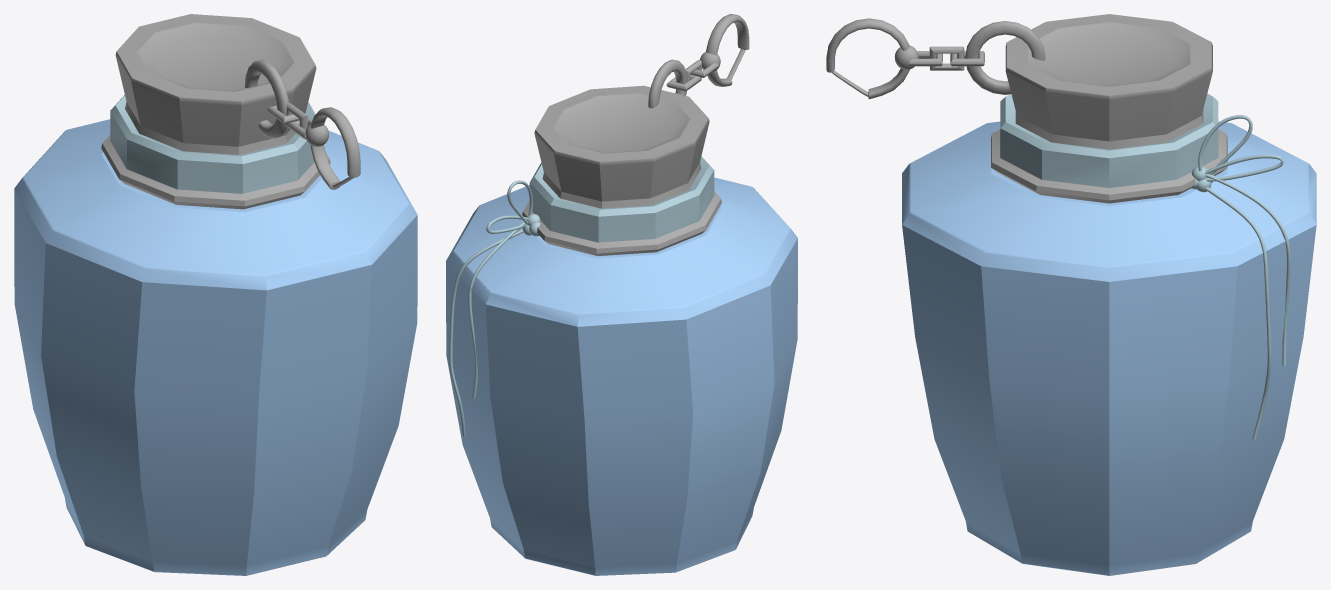
The model's file is faith.fbx.
3 views of the same model, side by side, from view 1: azimuth 30°, elevation 25°; view 2: azimuth 150°, elevation 25°; view 3: azimuth 270°, elevation 25° (orthographic). The views are drawn at different scales.
Visible parts, largest first — view 1: Faithfinal; view 2: Faithfinal; view 3: Faithfinal.
Part boxes in pixels (box(x1,y1,x2,y2)): Faithfinal: box(14, 14, 417, 575); Faithfinal: box(446, 14, 797, 575); Faithfinal: box(826, 14, 1316, 575).
Bounding box in the file's own units: 9.52 × 12.81 × 11.54.
